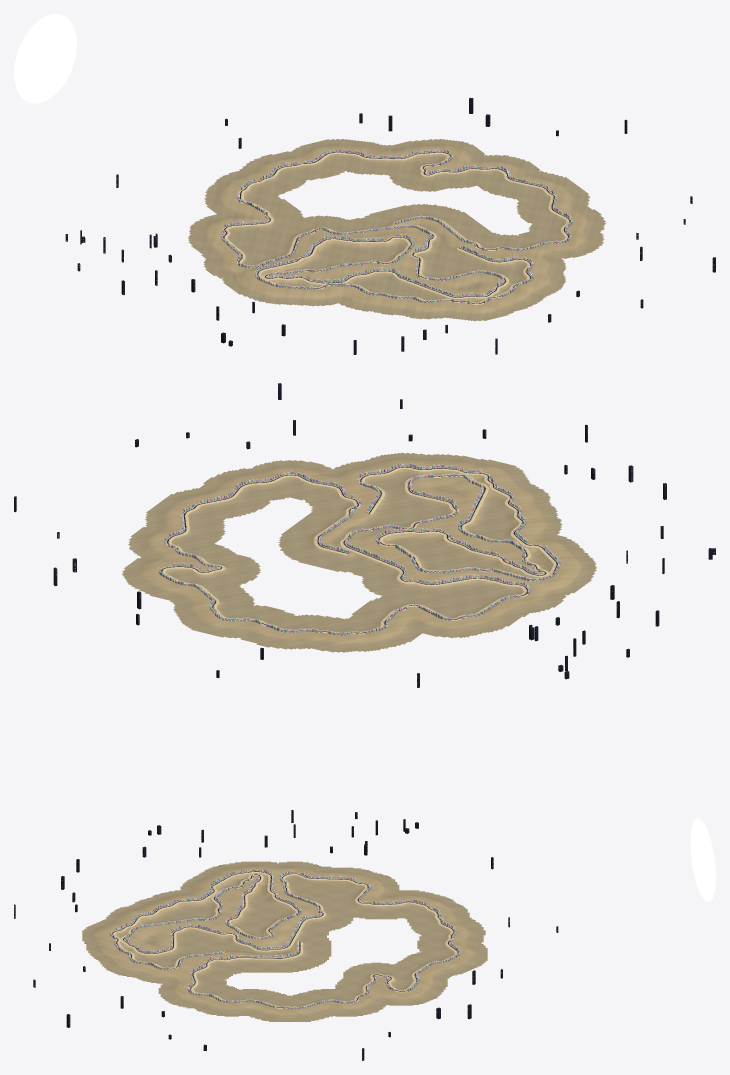
File: vicecity.glb
The picture shows the model from 3 angles, top to bottom: view 1: azimuth 30°, elevation 25°; view 2: azimuth 150°, elevation 25°; view 3: azimuth 270°, elevation 25°; orthographic projection. The views are drawn at different scales.
Parts seen in each view (by area): view 1: Sun, Land_002, Land_007, Land_003, Land_006, Land_009, Land_008, Land_004, Land_022, Land_000, Land_005, Land_021 (+15 smaller); view 2: Land_007, Land_006, Land_002, Land_003, Land_009, Land_008, Land_004, Land_000, Land_005, Land_022, Land_021, Land_024 (+14 smaller); view 3: Land_002, Land_003, Land_006, Land_007, Land_008, Land_009, Land_000, Land_004, Land_005, Land_022, Sun, Land_024 (+15 smaller).
Boxes of the visible parts, box(x1,y1,x2,y2) form: Sun: box(14, 14, 76, 103); Land_002: box(516, 202, 605, 258); Land_007: box(204, 153, 306, 207); Land_003: box(477, 156, 590, 205); Land_006: box(281, 139, 385, 180); Land_009: box(188, 221, 265, 278); Land_008: box(198, 196, 304, 240); Land_004: box(389, 154, 510, 191); Land_022: box(338, 282, 447, 319); Land_000: box(364, 204, 491, 244); Land_005: box(380, 139, 485, 175); Land_021: box(227, 278, 356, 306); Land_007: box(249, 614, 412, 652); Land_006: box(173, 589, 297, 641); Land_002: box(199, 460, 331, 517); Land_003: box(128, 488, 229, 546); Land_009: box(449, 584, 566, 638); Land_008: box(348, 595, 457, 640); Land_004: box(129, 542, 260, 585); Land_000: box(278, 512, 362, 572); Land_005: box(122, 557, 243, 602); Land_022: box(491, 484, 562, 538); Land_021: box(503, 533, 596, 589); Land_024: box(332, 452, 424, 504); Land_002: box(158, 984, 284, 1016); Land_003: box(249, 989, 372, 1021); Land_006: box(399, 933, 487, 976); Land_007: box(405, 890, 485, 938); Land_008: box(331, 881, 415, 919); Land_009: box(277, 861, 395, 893); Land_000: box(232, 937, 331, 972); Land_004: box(335, 962, 403, 1012); Land_005: box(377, 961, 449, 1005); Land_022: box(106, 890, 208, 925); Sun: box(690, 818, 715, 901); Land_024: box(100, 950, 200, 983).
Size of what is drawn, in the model's own units: 5722 by 840 by 6997.
